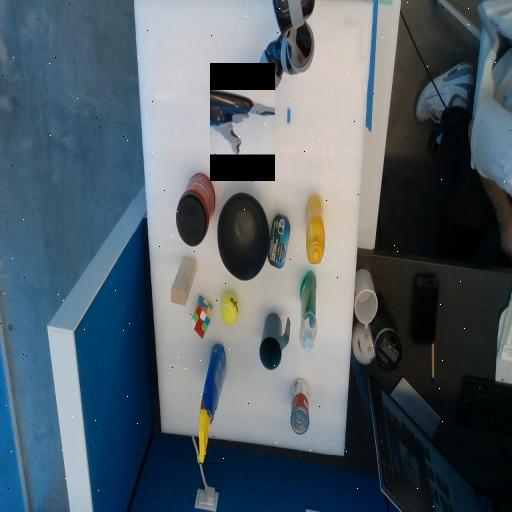bowl: (217, 210, 268, 262)
cleanser: (300, 271, 316, 351)
coffee_can: (175, 190, 214, 228)
jaco: (210, 90, 275, 154)
meat_can: (267, 214, 289, 268)
mug: (258, 326, 289, 356)
mustard_bottle: (306, 195, 324, 263)
rubik: (190, 295, 212, 338)
soup_can: (290, 379, 308, 434)
tennis_ball: (221, 300, 238, 317)
windex: (198, 345, 225, 463)
wooden_block: (170, 268, 195, 293)
workspace: (135, 3, 372, 455)
